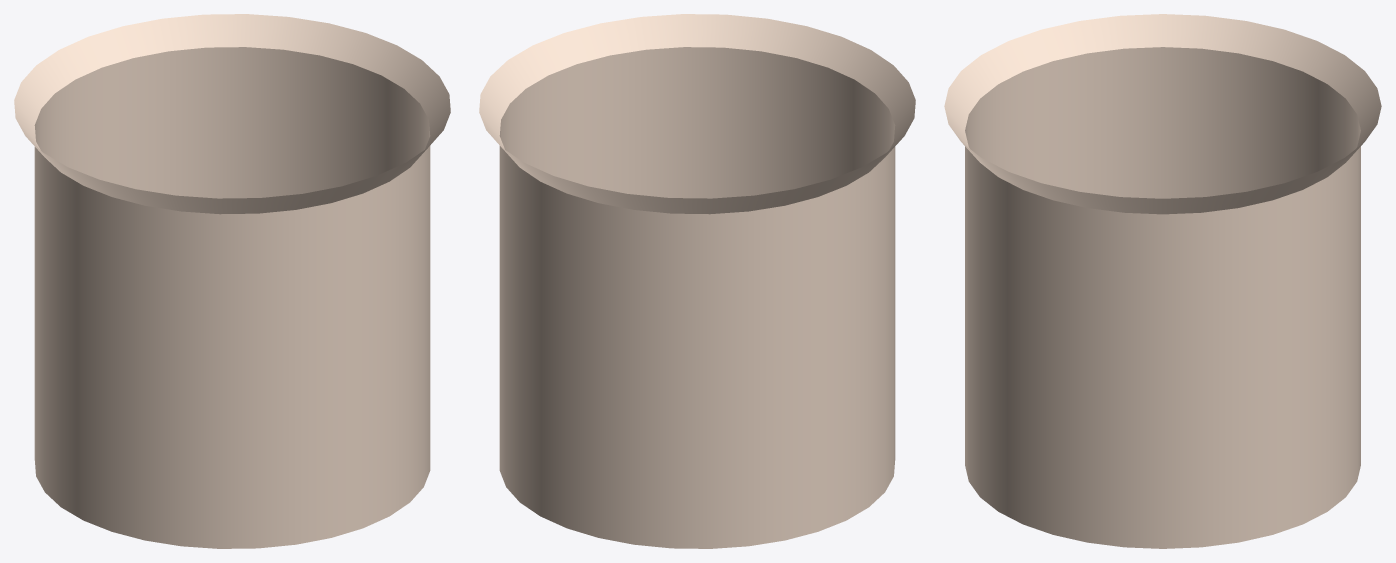
File: bea.glb
The picture shows the model from 3 angles, left to right: view 1: azimuth 30°, elevation 25°; view 2: azimuth 150°, elevation 25°; view 3: azimuth 270°, elevation 25°; orthographic projection.
Parts seen in each view (by area): view 1: Beaker.003; view 2: Beaker.003; view 3: Beaker.003.
Boxes of the visible parts, x1,y1,x2,y2 form: Beaker.003: (14, 14, 450, 548); Beaker.003: (479, 14, 915, 548); Beaker.003: (944, 14, 1381, 548).
Size of the model in its own units: 2.21 by 2 by 2.21.
